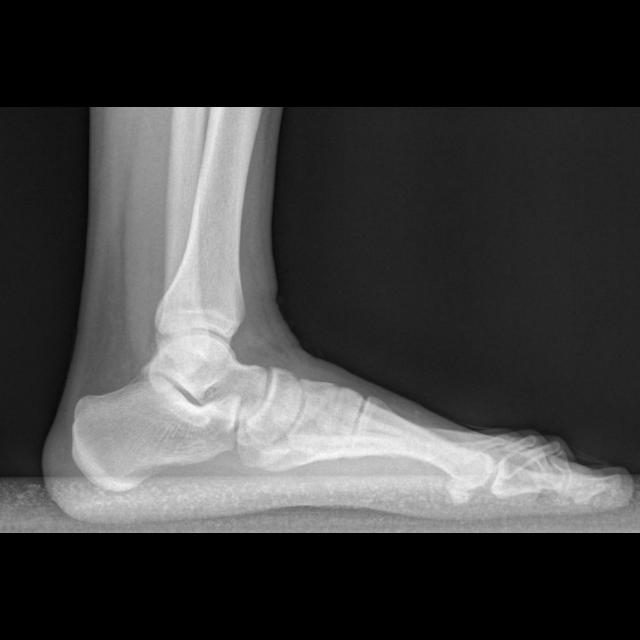a: (67, 379, 244, 495)
b: (252, 366, 302, 444)
c: (354, 400, 491, 506)
